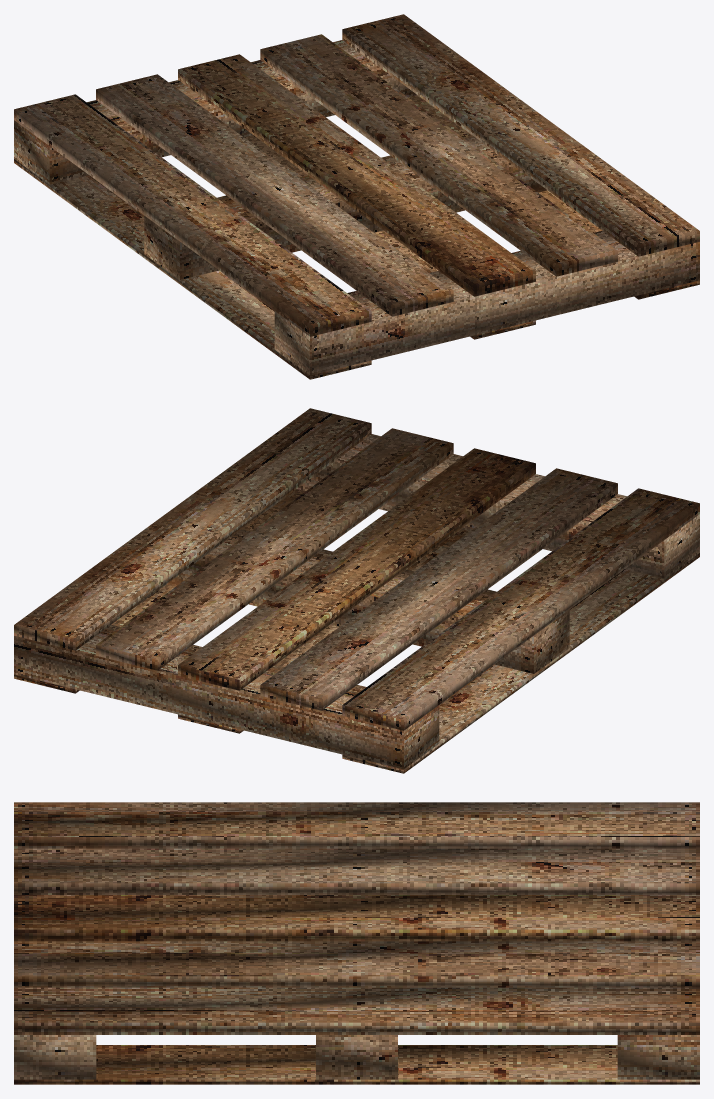
File: pallet.glb
3 renders of one model, top to bottom at view 1: azimuth 30°, elevation 25°; view 2: azimuth 150°, elevation 25°; view 3: azimuth 270°, elevation 25°, orthographic. The views are drawn at different scales.
Parts seen in each view (by area): view 1: Pallet; view 2: Pallet; view 3: Pallet.
Boxes of the visible parts, <box> form: Pallet: <box>14,14,699,379</box>; Pallet: <box>14,408,699,773</box>; Pallet: <box>14,802,699,1084</box>.
Size of the model in its own units: 1.22 by 0.16 by 1.6.
Materials: 1 (1 with a texture image).
